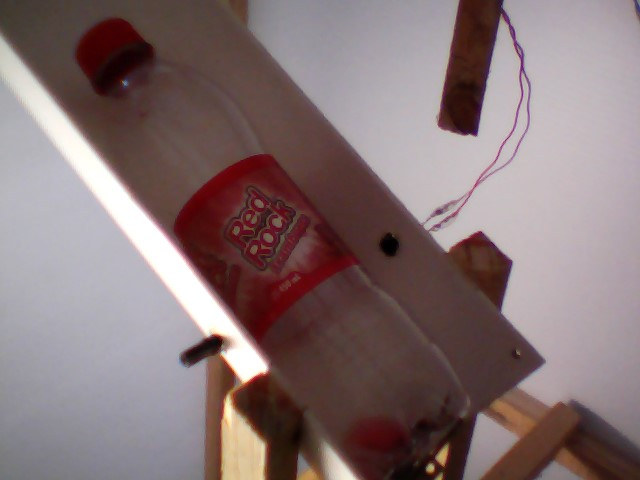plastico: (67, 9, 477, 480)
